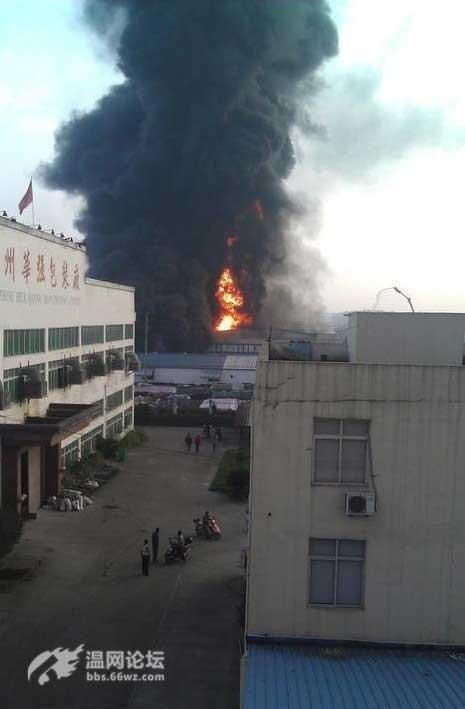fire: (212, 268, 244, 330)
